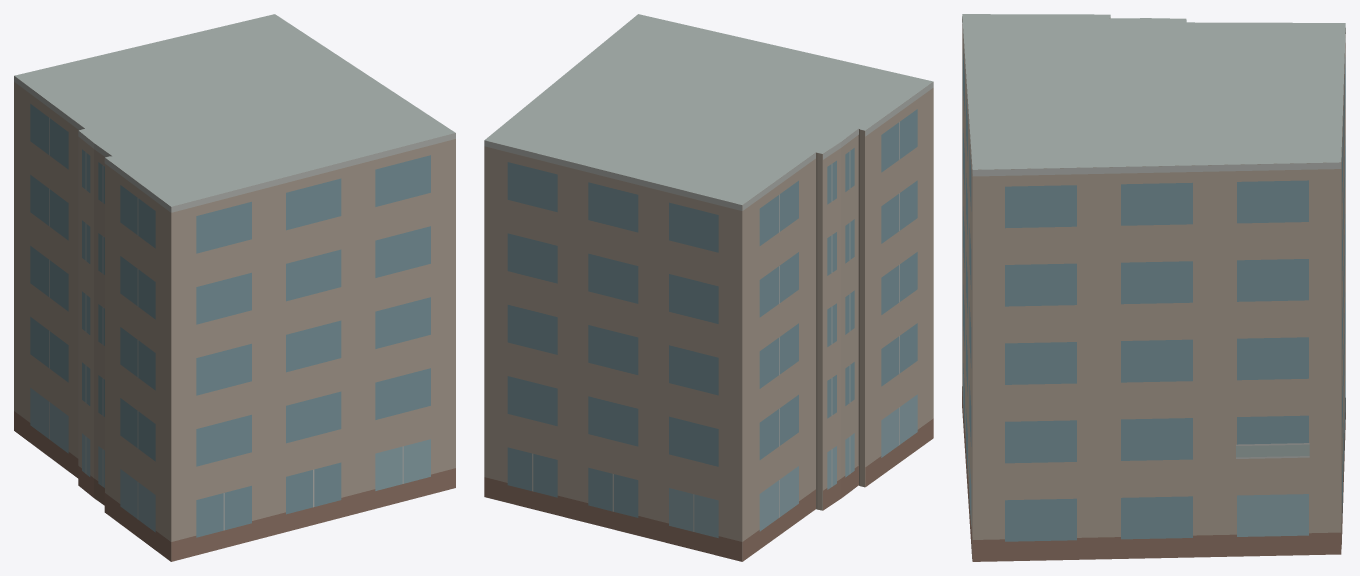
The model's file is survey-upis-32886735.glb.
The picture shows the model from 3 angles, left to right: view 1: azimuth 30°, elevation 25°; view 2: azimuth 150°, elevation 25°; view 3: azimuth 270°, elevation 25°; orthographic projection. The views are drawn at different scales.
Visible parts, largest first — view 1: survey-upis-32886735.tmp; view 2: survey-upis-32886735.tmp; view 3: survey-upis-32886735.tmp.
Boxes of the visible parts, <box> form: survey-upis-32886735.tmp: <box>14,14,455,561</box>; survey-upis-32886735.tmp: <box>484,14,933,561</box>; survey-upis-32886735.tmp: <box>962,14,1345,561</box>.
Bounding box in the file's own units: 12.38 × 14.5 × 12.87.
